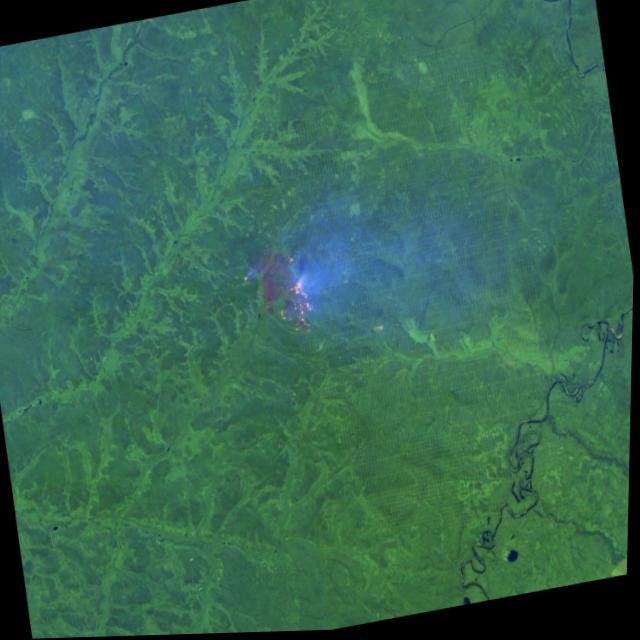fire: (236, 244, 329, 356)
